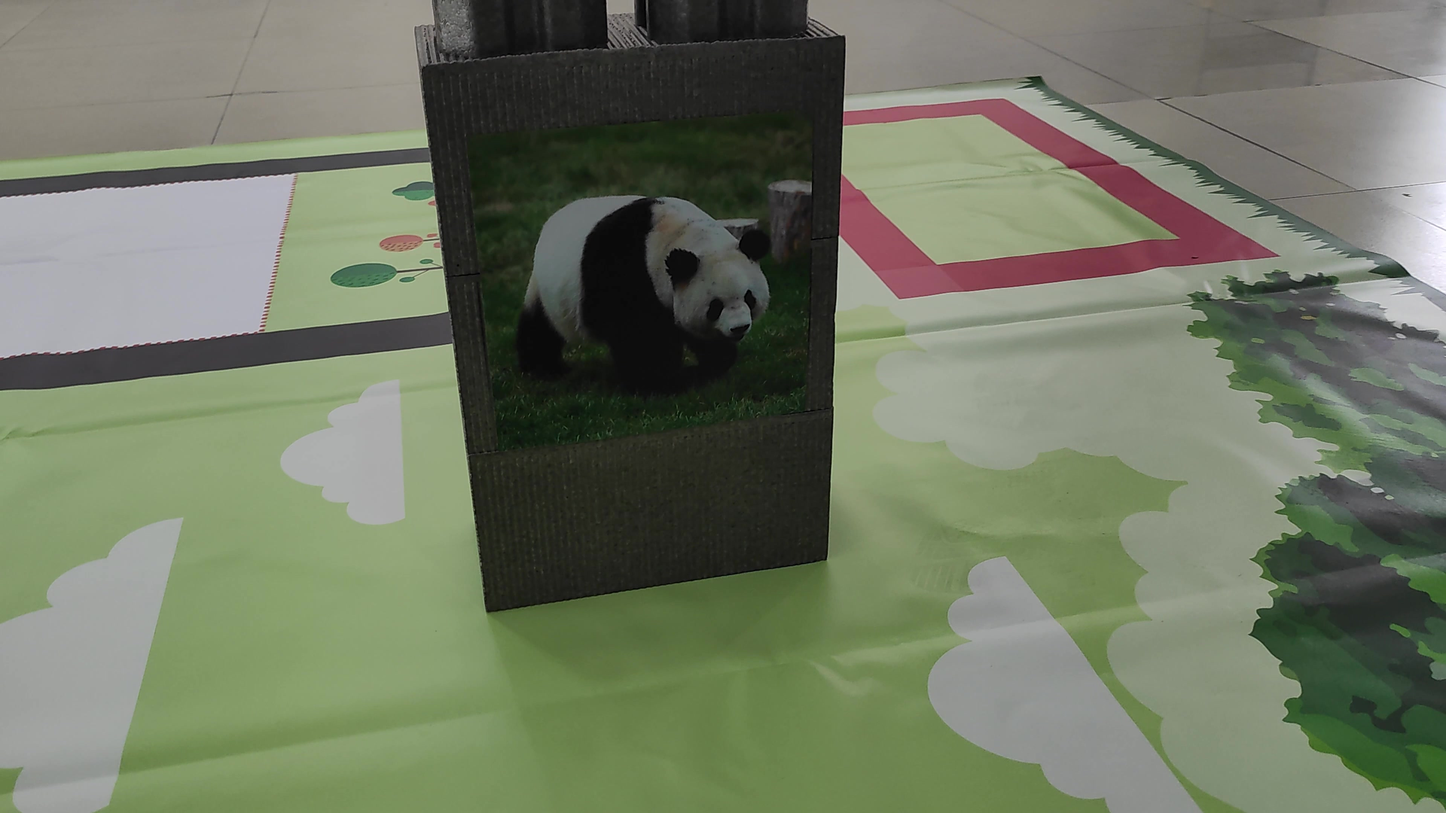panda: (493, 187, 793, 411)
